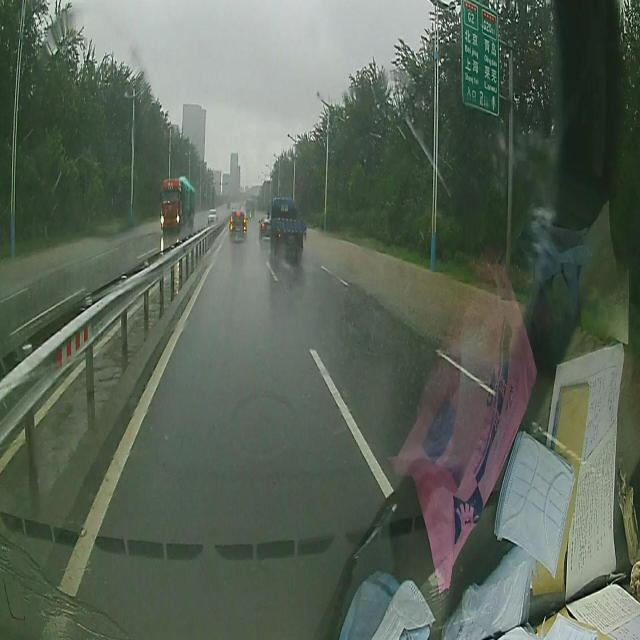car: (266, 192, 306, 261), (160, 176, 196, 232), (227, 209, 247, 240), (257, 216, 274, 242), (243, 194, 254, 220), (206, 206, 216, 224)
